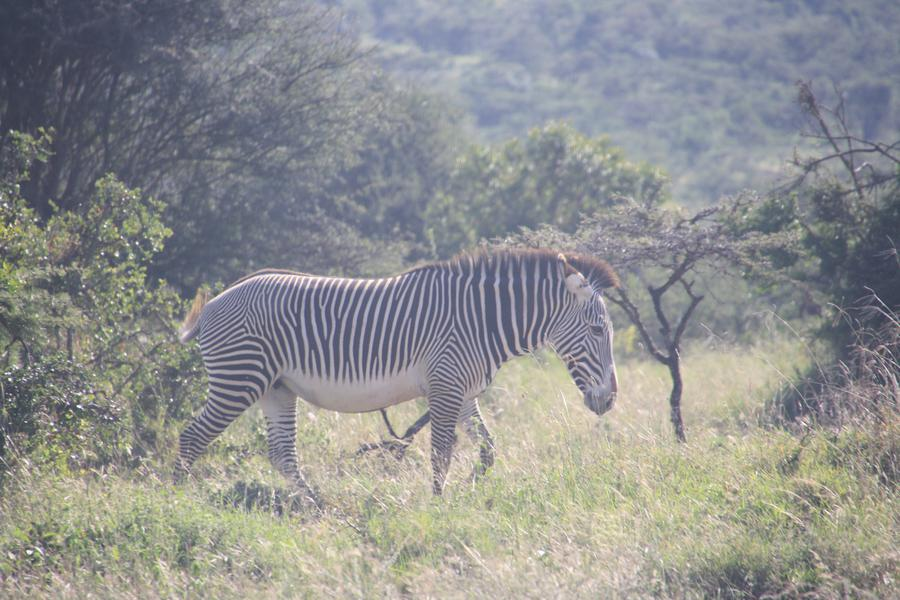zebra_grevys: (194, 248, 481, 388)
